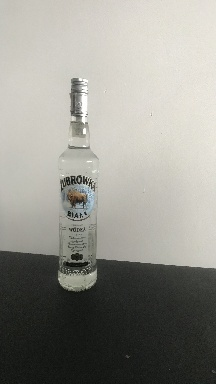butelka: (56, 74, 100, 294)
